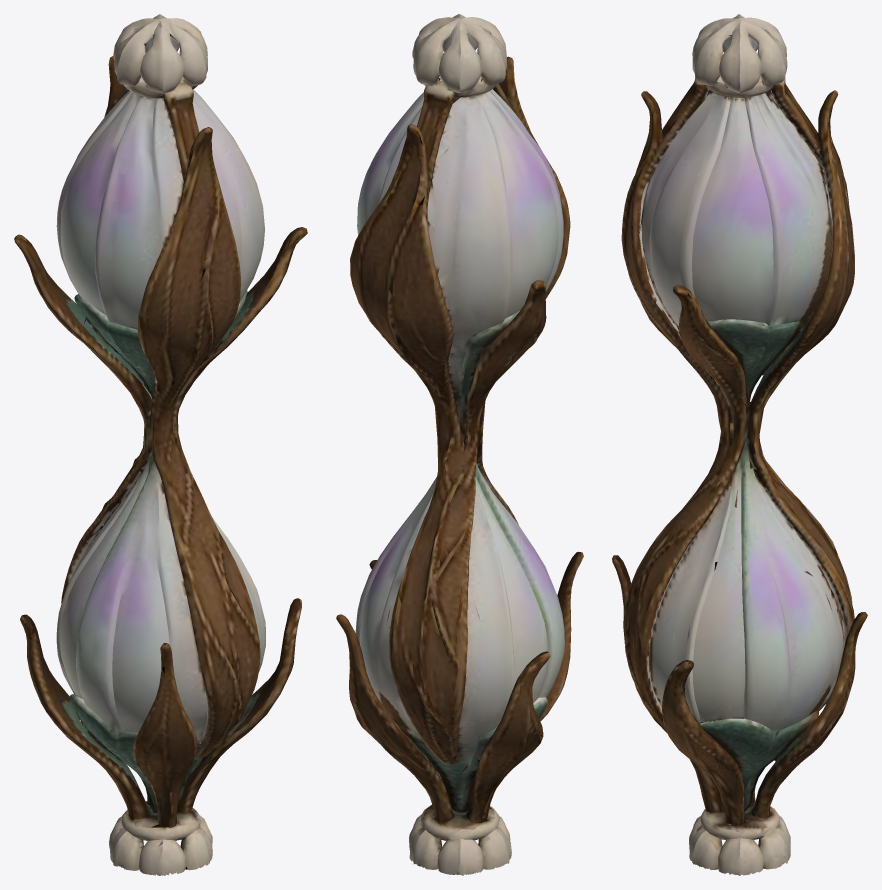
Rendered from ON-09_hourglass_game.glb.
The picture shows the model from 3 angles, left to right: view 1: azimuth 30°, elevation 25°; view 2: azimuth 150°, elevation 25°; view 3: azimuth 270°, elevation 25°; orthographic projection.
Parts seen in each view (by area): view 1: ON-09_hourglass; view 2: ON-09_hourglass; view 3: ON-09_hourglass.
Boxes of the visible parts, x1,y1,x2,y2 form: ON-09_hourglass: (14, 14, 307, 875); ON-09_hourglass: (336, 14, 583, 875); ON-09_hourglass: (612, 14, 867, 875).
Bounding box in the file's own units: 0.0869 × 0.3 × 0.0834.
Materials: 1 (1 with a texture image).
